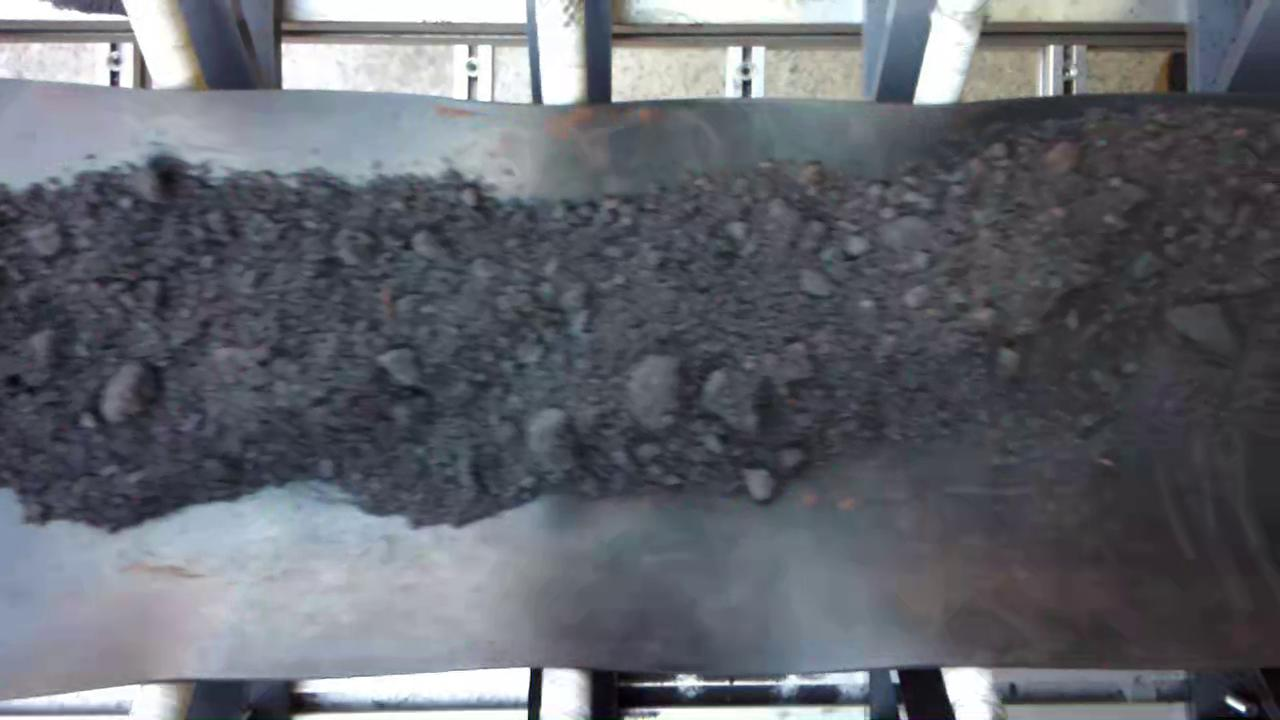conveyor: (5, 106, 1280, 660)
